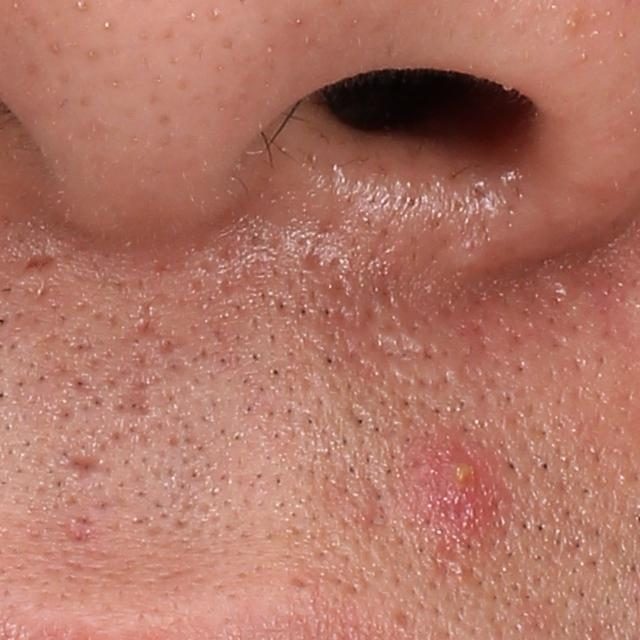atrophic_scar: (12, 246, 68, 286), (111, 389, 164, 425), (55, 450, 101, 482)
pustule: (414, 445, 499, 535)
